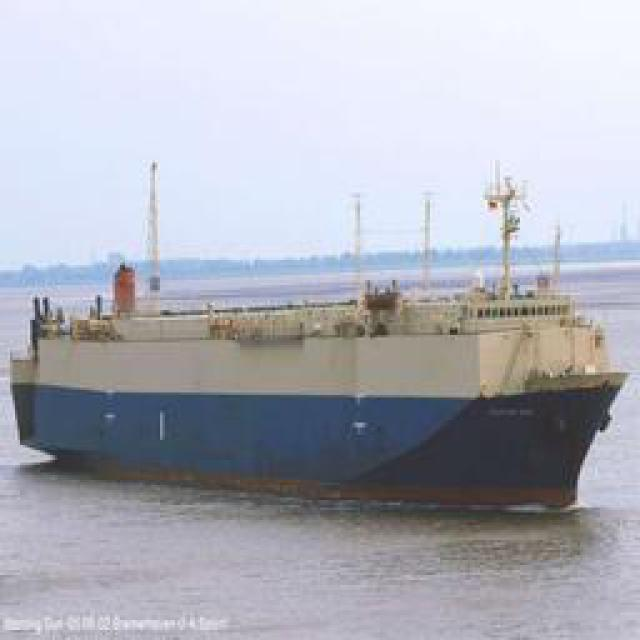Ship: (14, 310, 624, 500)
